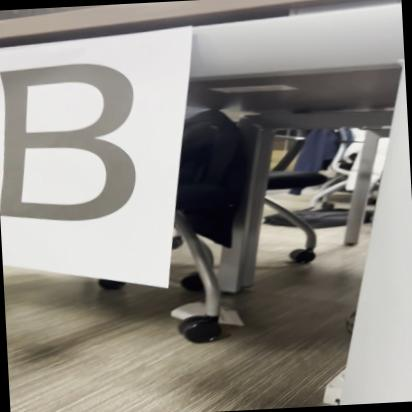seat: (0, 55, 147, 230)
